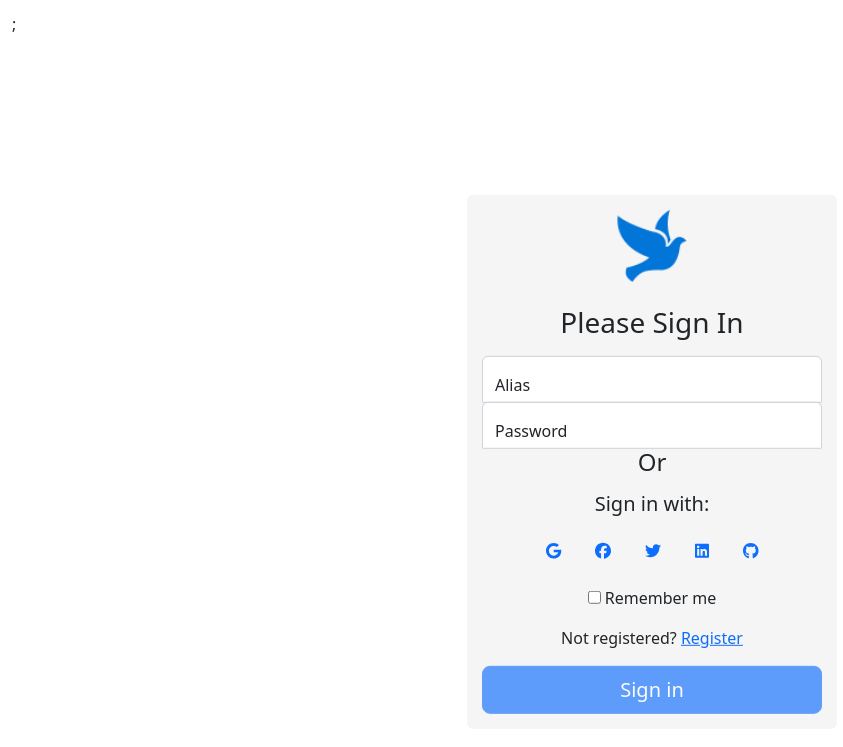
Test: Login Componenent › enables the sign-in button if both alias and password fields have text
Type "a" into the field labelled "Alias" at (652, 379), box [482,355,822,402]
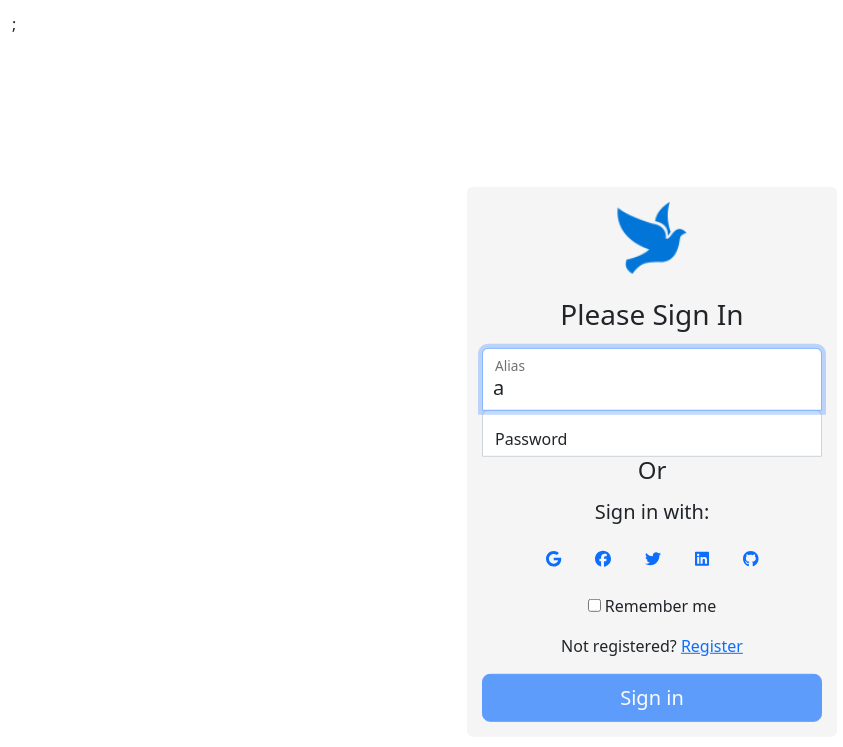
Type "b" into the password field labelled "Password" at (652, 433), box [482,409,822,456]
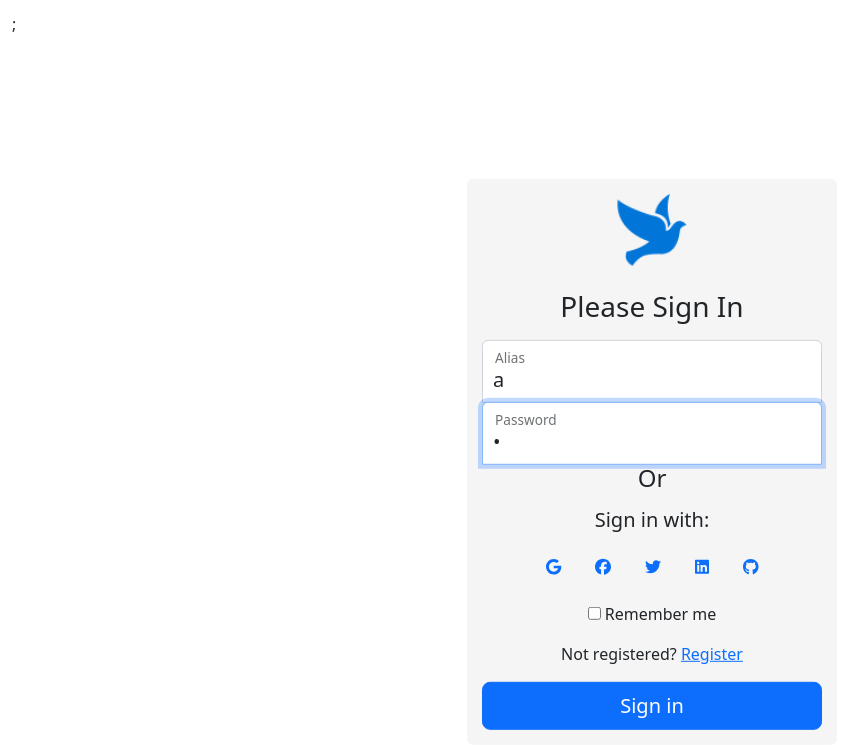
Check: the button "Sign in" is enabled, box [482,682,822,730]
